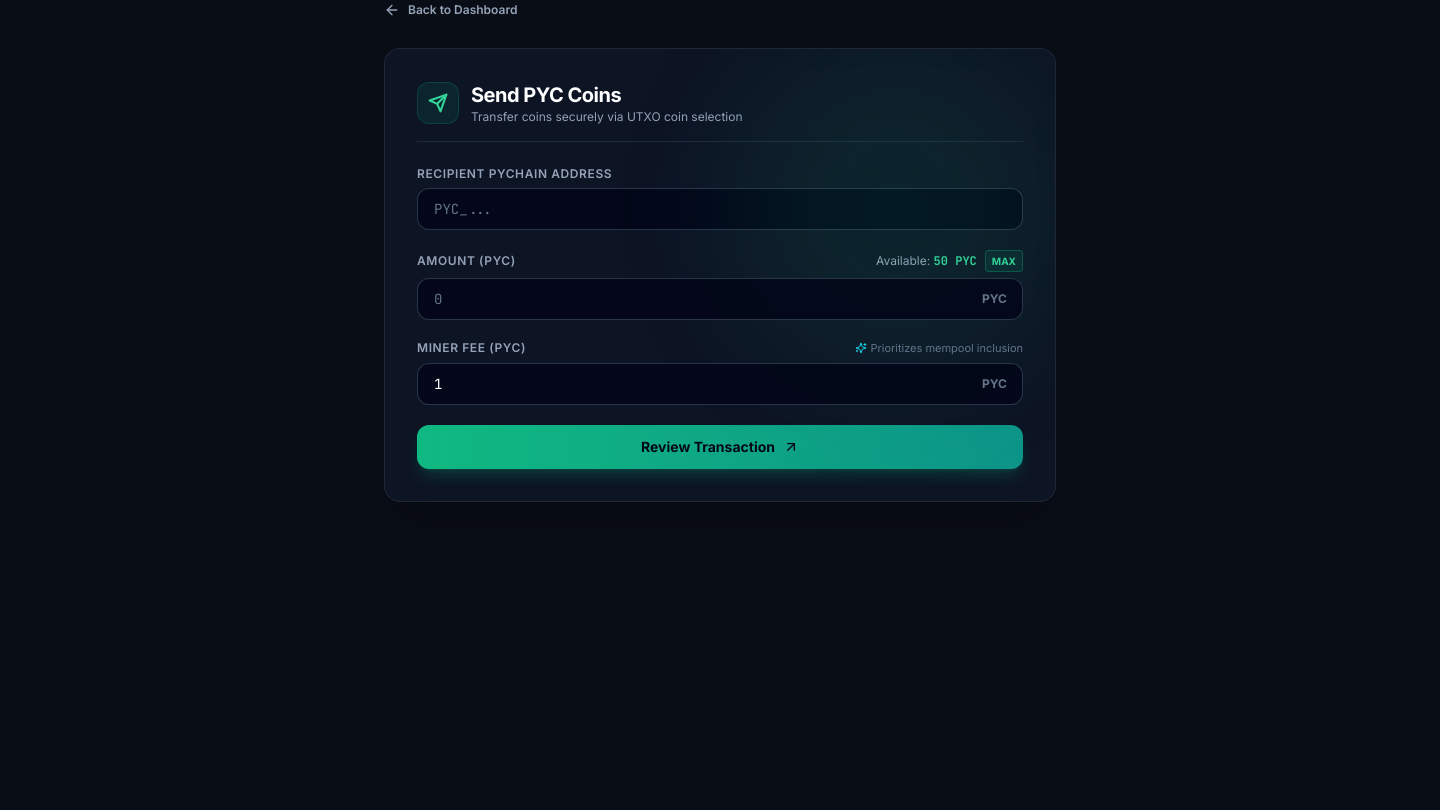
SendPage › opens confirmation modal when valid inputs are provided and reuses idempotency key on retry
The image size is (1440, 810).
Expected: the text "50 PYC" is shown, [934,253,977,269]
Type "PYC_valid_recipient_999" into the field labelled "Recipient PyChain Address" at (720, 209), box [417,188,1023,230]
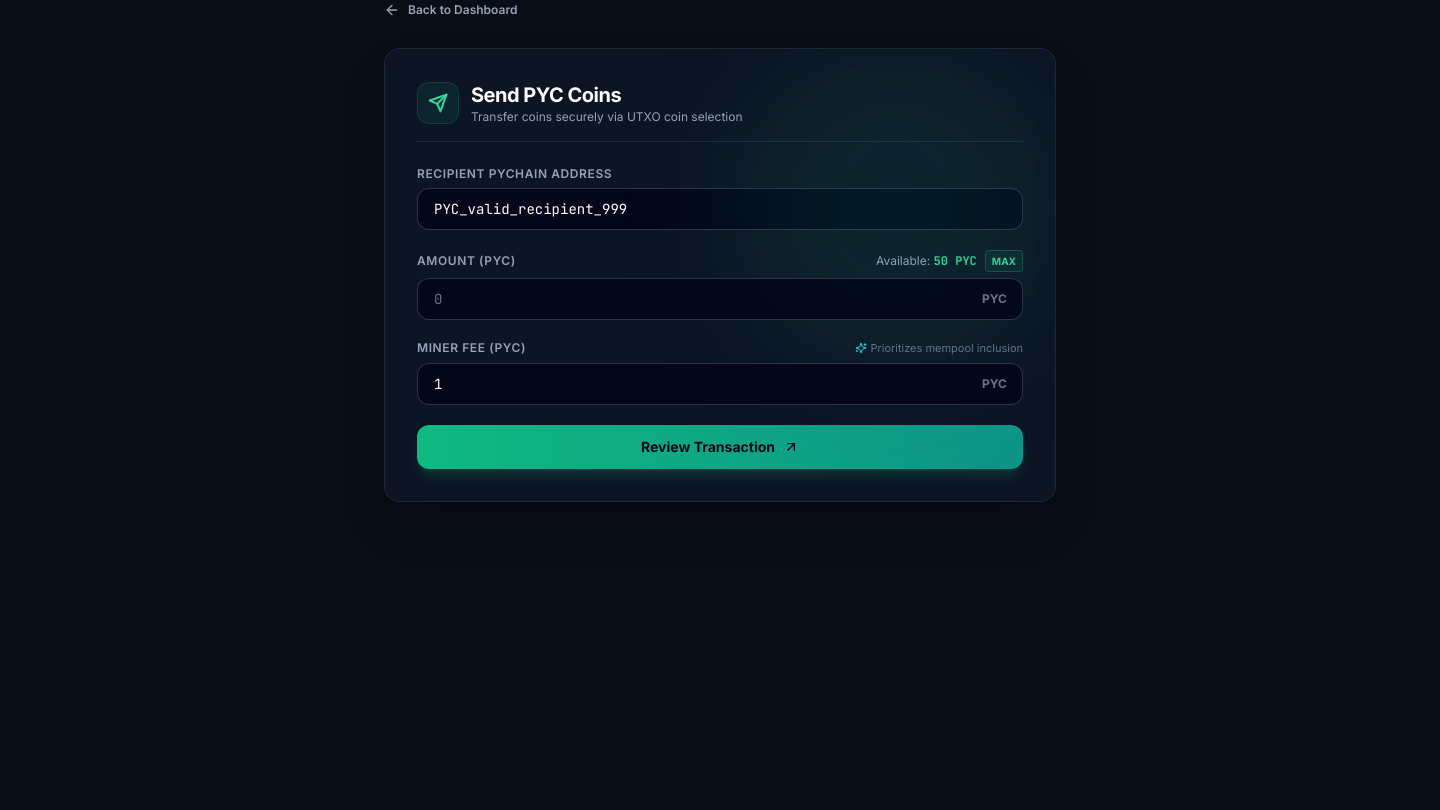
Type "15" into the number field labelled "Amount (PYC)" at (720, 299), box [417,278,1023,320]
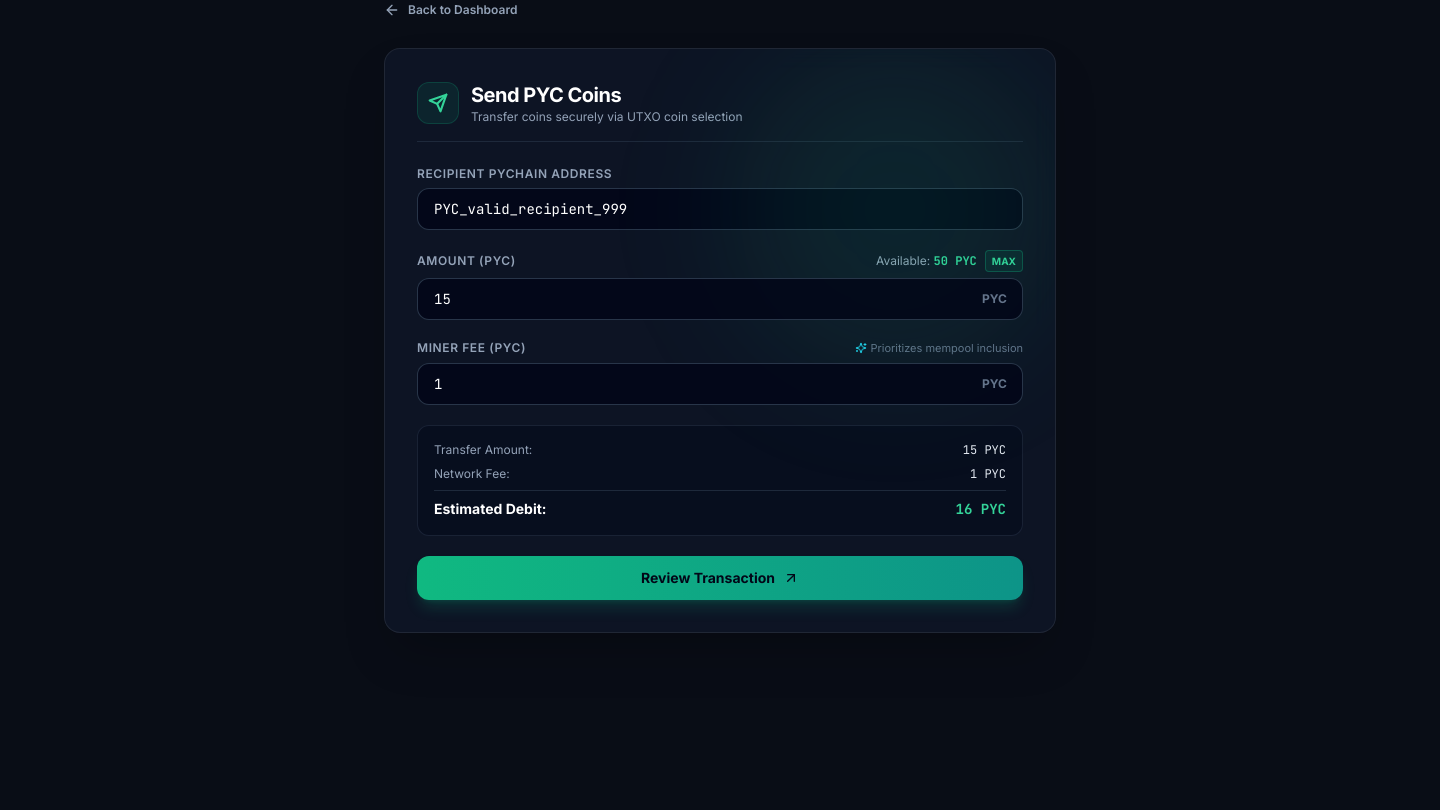
Click the button "Review Transaction" at (720, 578), box [417,556,1023,600]
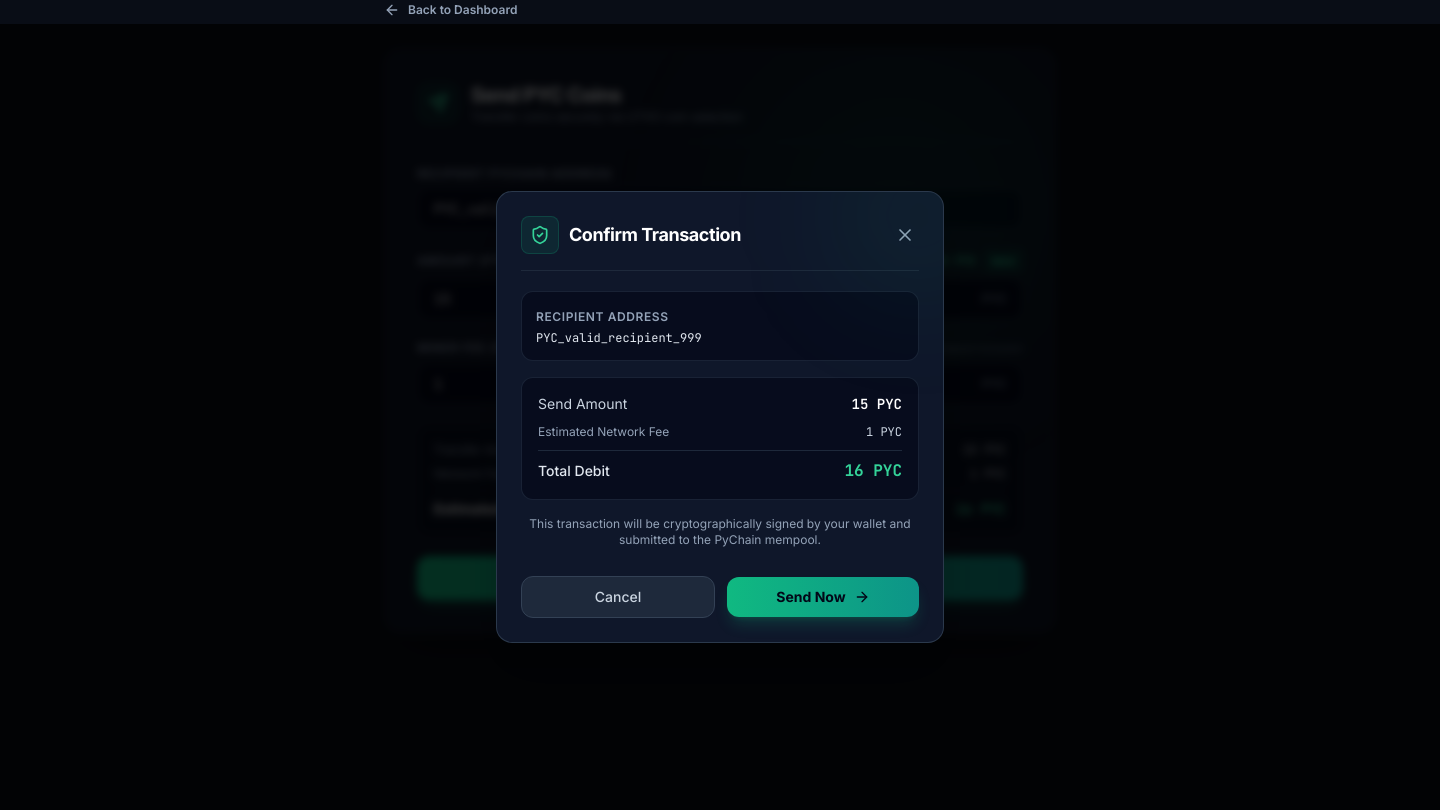
Result: the heading "Confirm Transaction" is shown at [569,221,741,249]
Click the button "Send Now" at (823, 597), box [727,577,919,617]
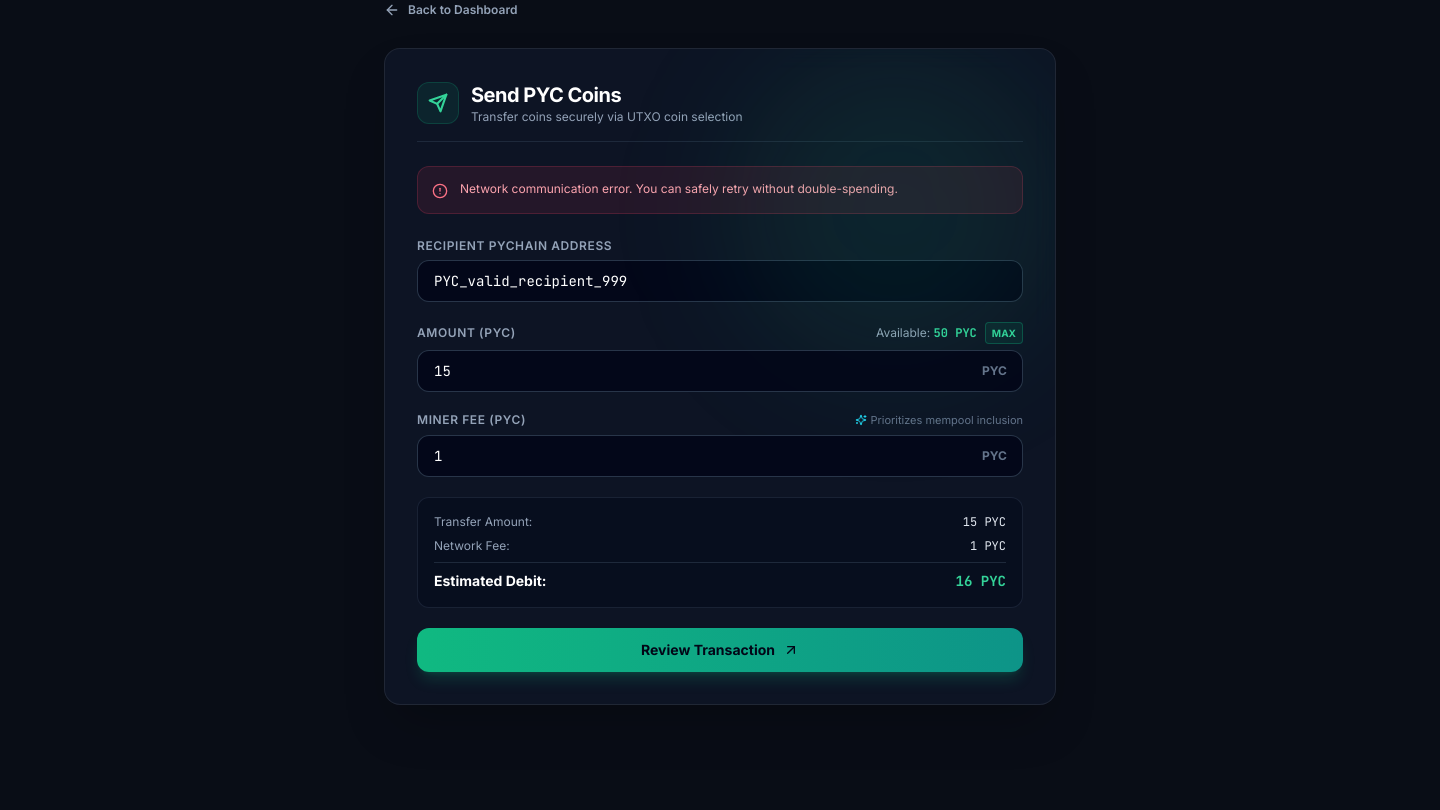
Result: the text "Network communication error" is shown at [460,181,898,196]
Note: User retries without changing form inputs
Click the button "Review Transaction" at (720, 650), box [417,628,1023,672]
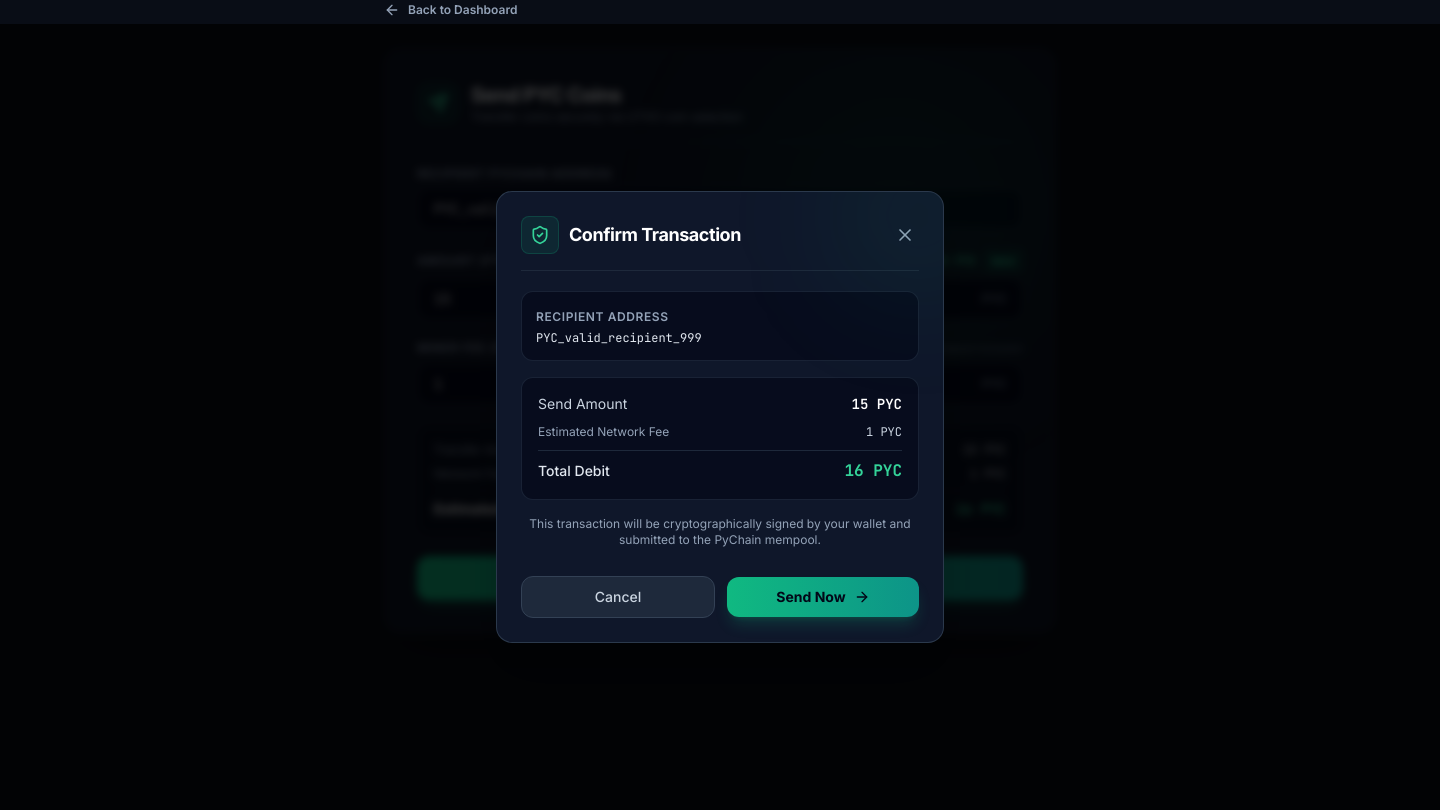
Result: the heading "Confirm Transaction" is shown at [569,221,741,249]
Click the button "Send Now" at (823, 597), box [727,577,919,617]
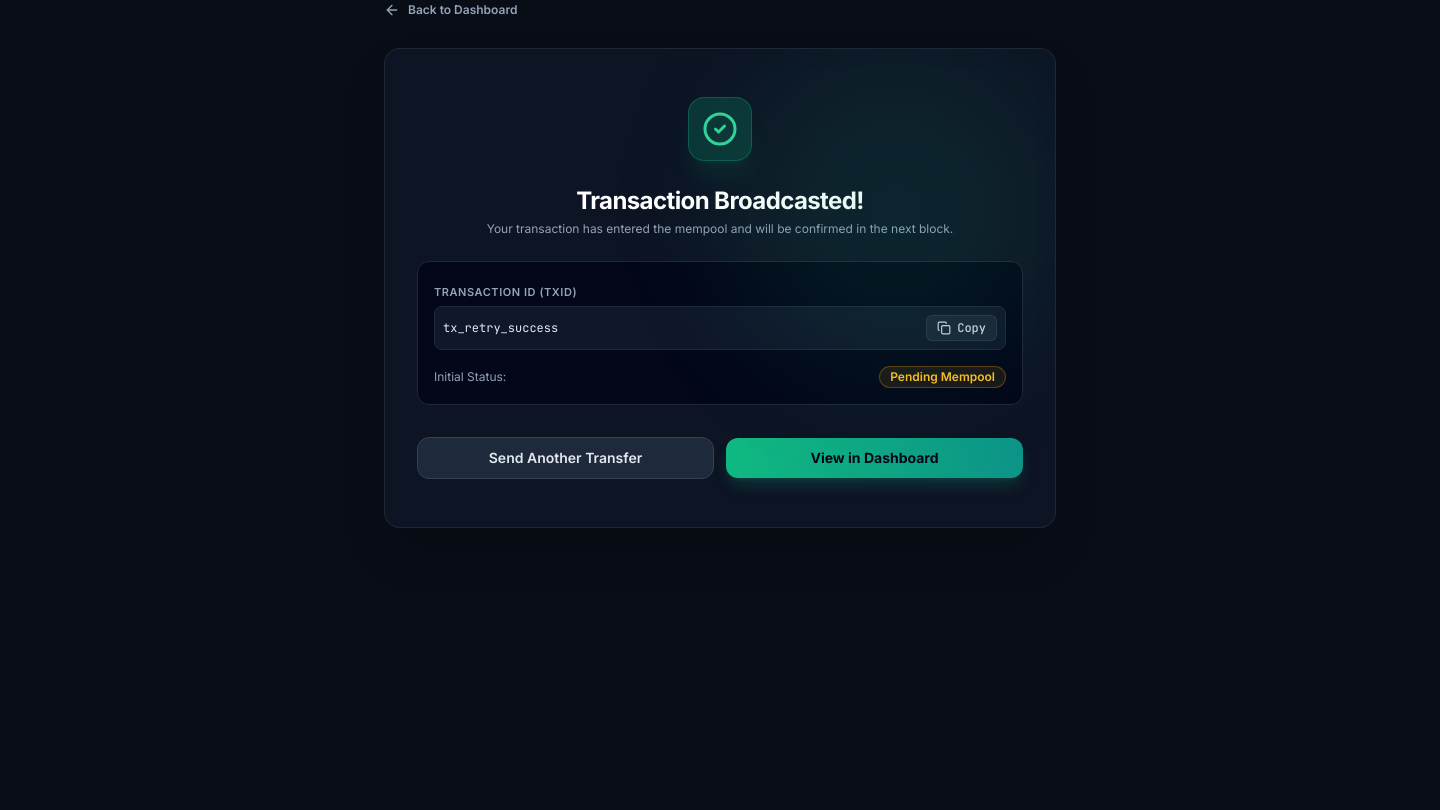
Result: the heading "Transaction Broadcasted!" is shown at [576,186,864,215]
